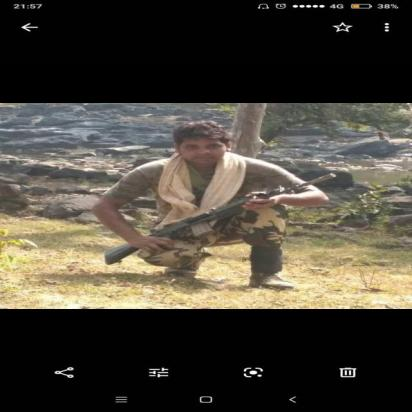Gun: (101, 172, 339, 266)
